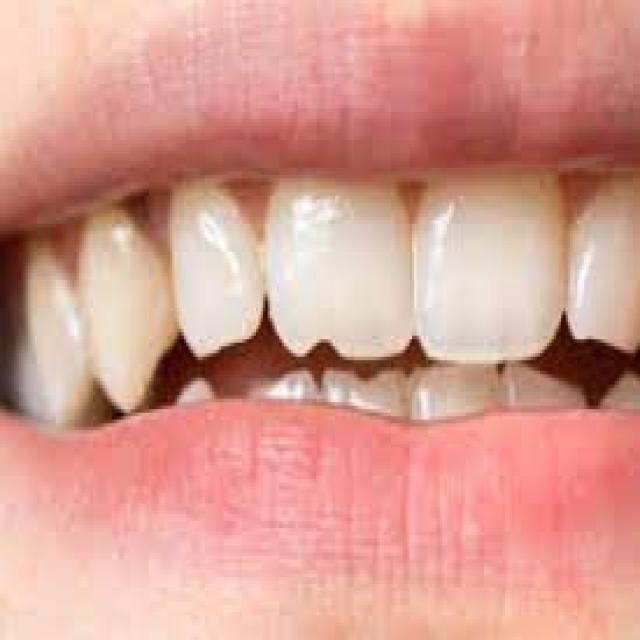tooth: (424, 182, 552, 350), (274, 182, 402, 343), (79, 213, 156, 371), (172, 192, 254, 332), (572, 200, 638, 340), (28, 248, 74, 402), (505, 364, 580, 409), (328, 367, 403, 409), (417, 371, 498, 402), (603, 378, 640, 406), (263, 378, 321, 395), (181, 374, 212, 402)
